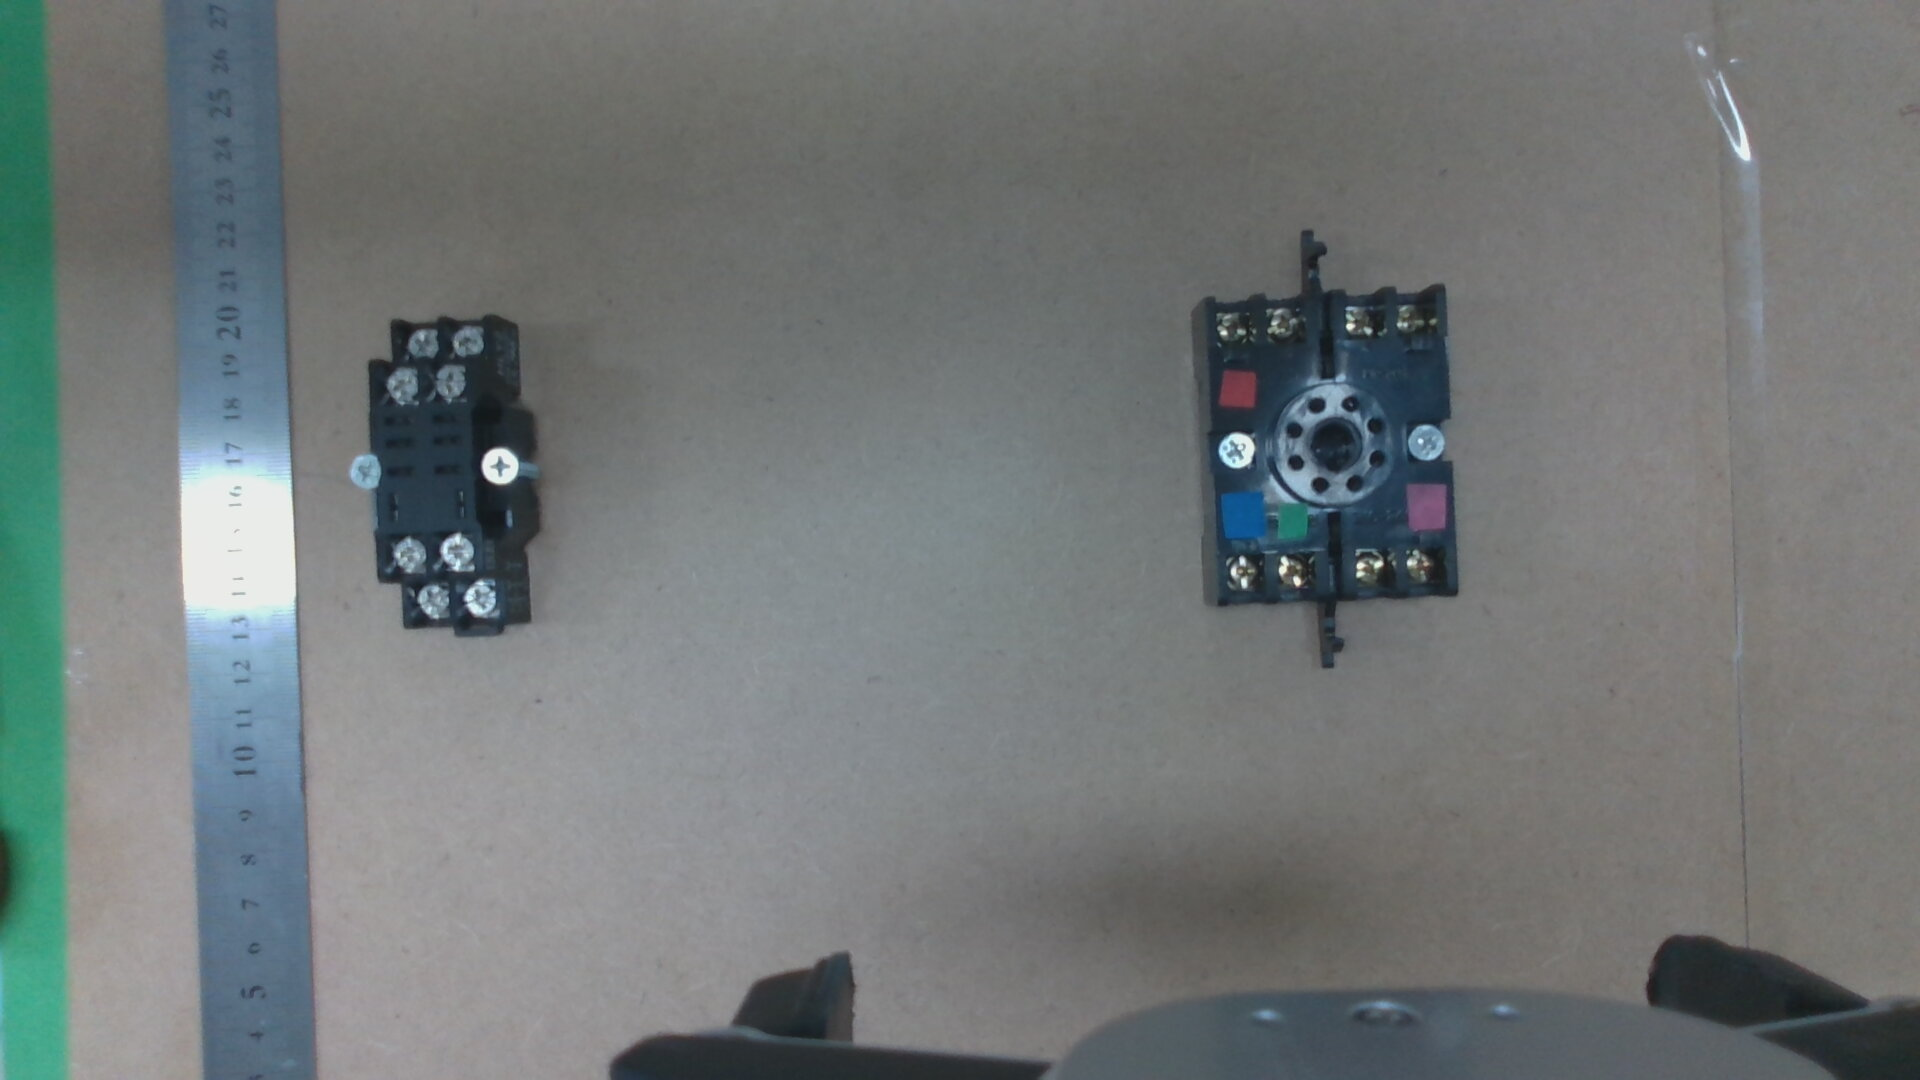timer 2: (1407, 553, 1437, 582)
timer 6: (1215, 313, 1251, 342)
timer 7: (1226, 558, 1261, 589)
timer 8: (1278, 555, 1309, 588)
